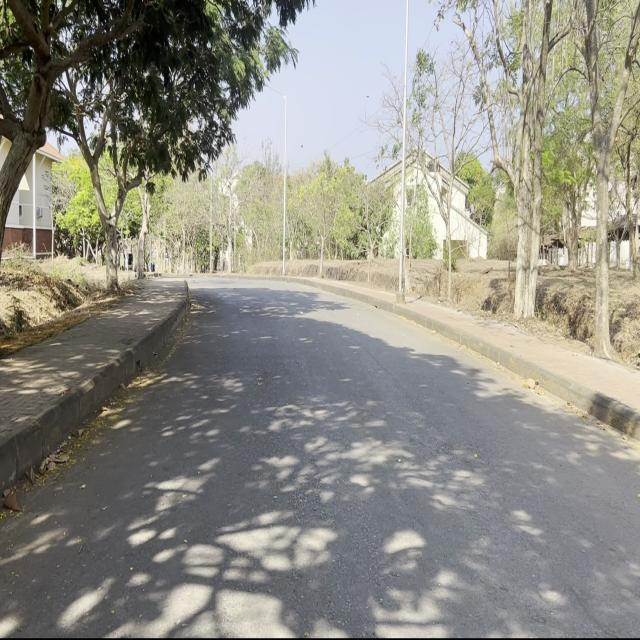Road: (3, 278, 637, 636)
